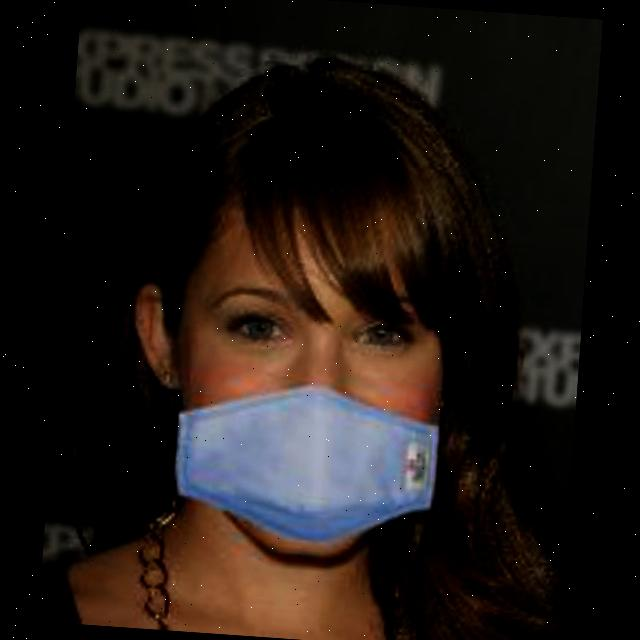suspicion: (40, 44, 536, 600)
